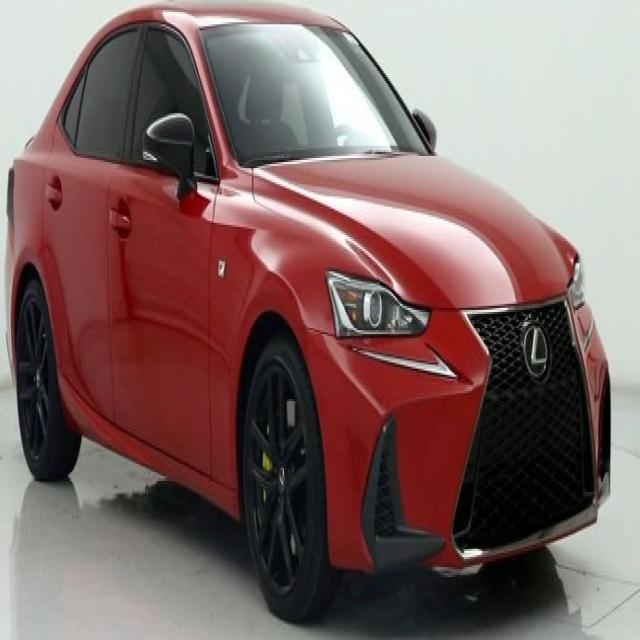red: (13, 1, 614, 534)
